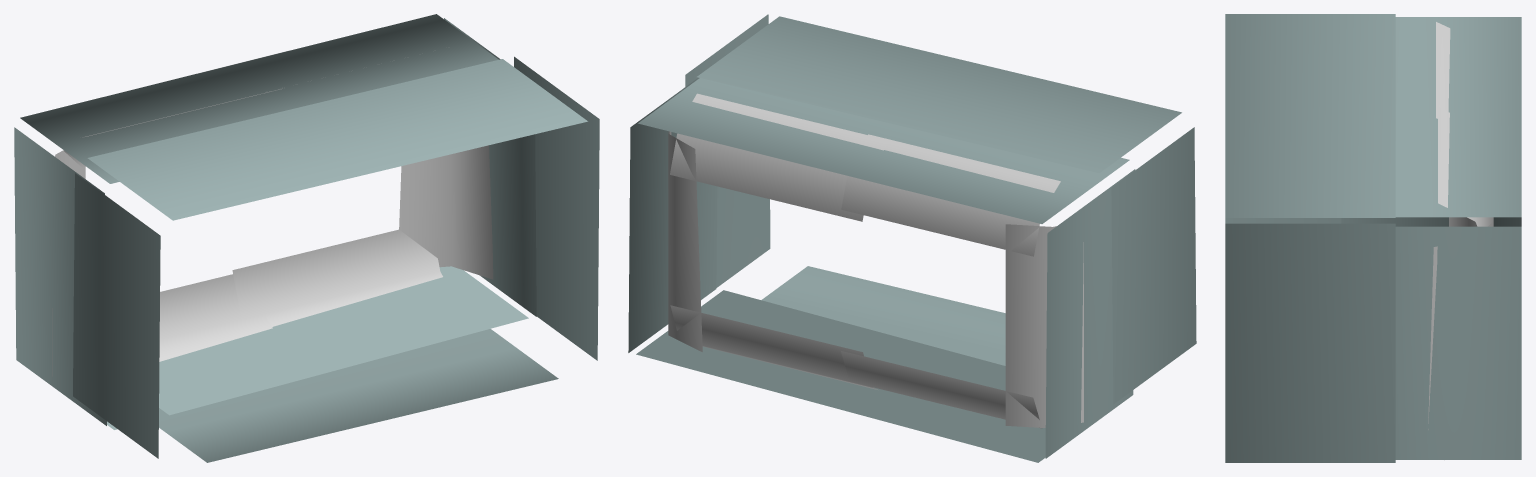
Rendered from SM_000022_tr122_leaf02_lv2.fbx.
3 views of the same model, side by side, from view 1: azimuth 30°, elevation 25°; view 2: azimuth 150°, elevation 25°; view 3: azimuth 270°, elevation 25° (orthographic). The views are drawn at different scales.
Visible parts, largest first — view 1: SM_000022.001; view 2: SM_000022.001; view 3: SM_000022.001.
Part boxes in pixels (x1,y1,x2,y2): SM_000022.001: (14,14,599,462); SM_000022.001: (628,14,1196,462); SM_000022.001: (1225,14,1521,462).
Size of the model in its own units: 2.4 by 1.35 by 1.4.
